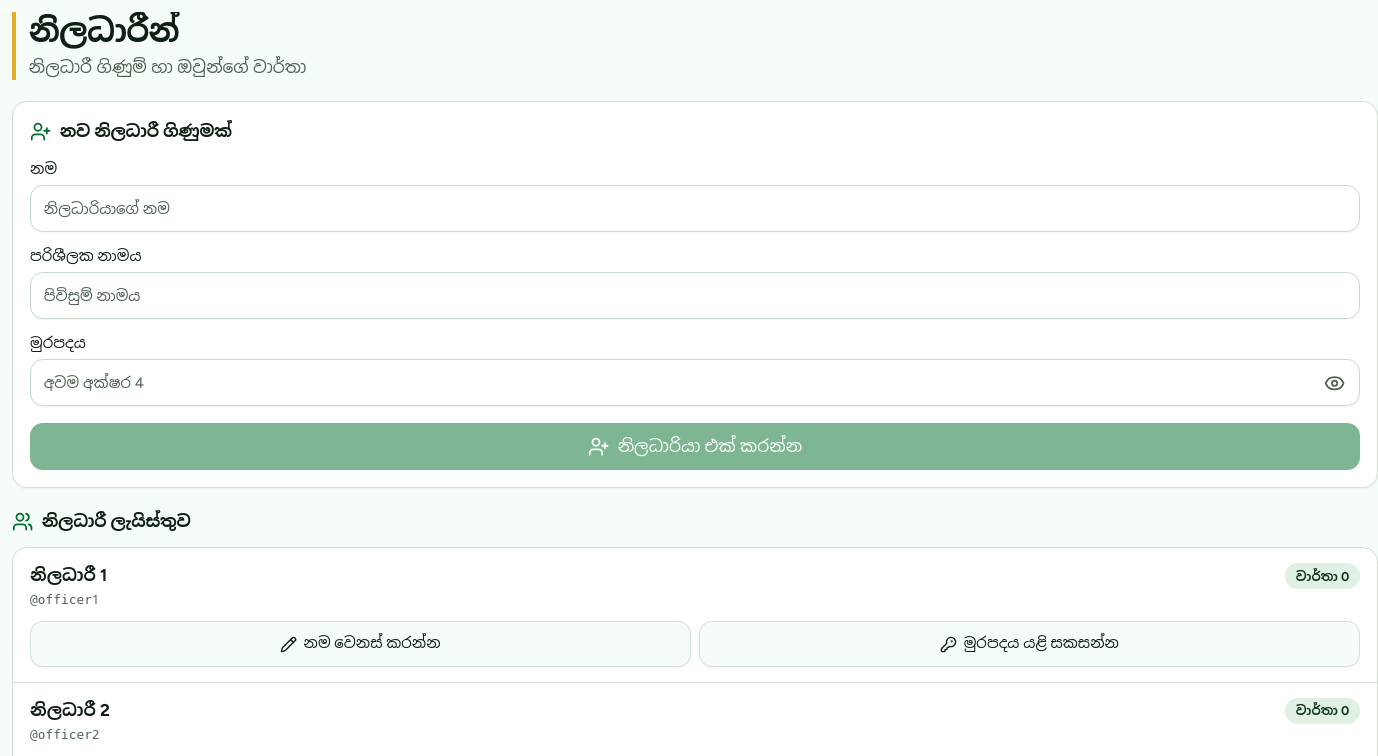
it: OfficersPage › keeps the rename save disabled until a non-empty name is entered
Click the button with test id "officers.edit_button".
click(360, 644)  # box [30,621,691,667]
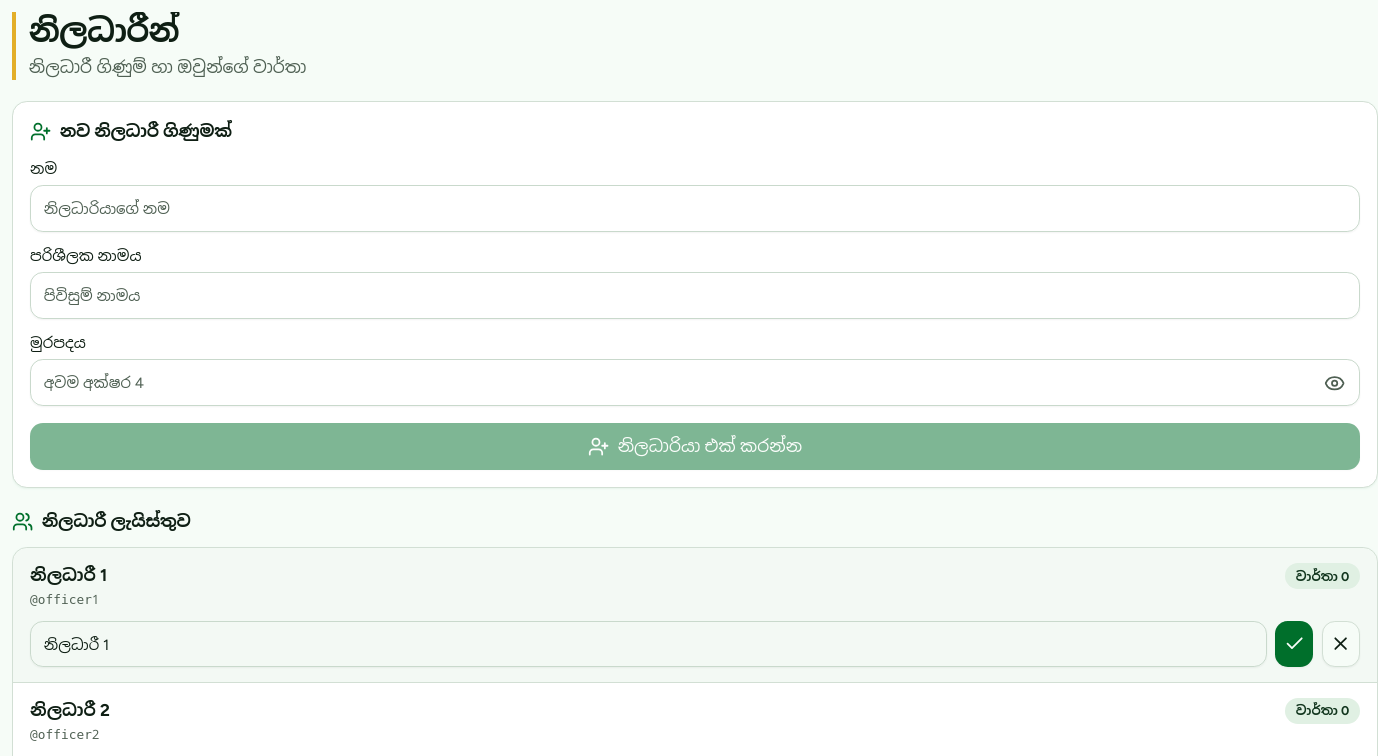
Expected: the button with test id "officers.save_button" is enabled, [1275,621,1313,667]
Clear the field with test id "officers.edit_input" at (648, 644), box [30,621,1266,667]
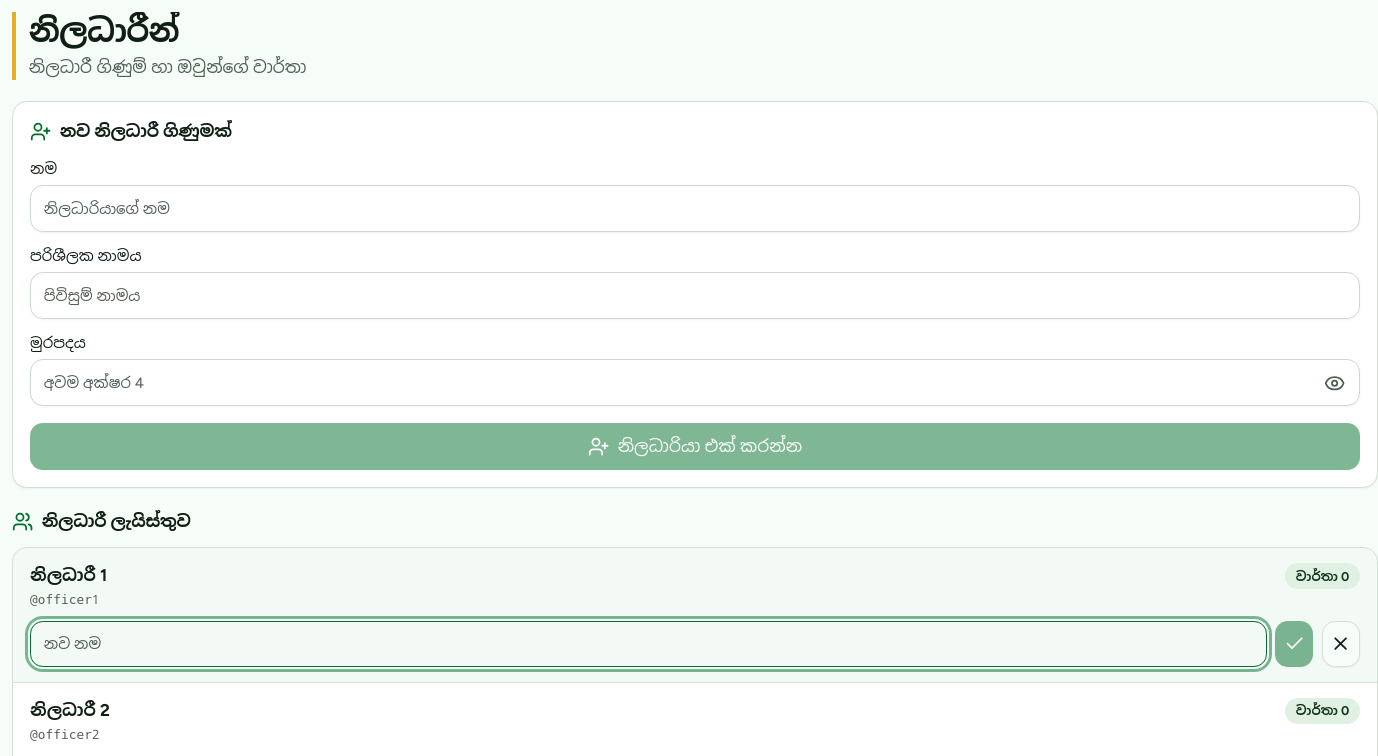
Expected: the button with test id "officers.save_button" is disabled, [1275,621,1313,667]
